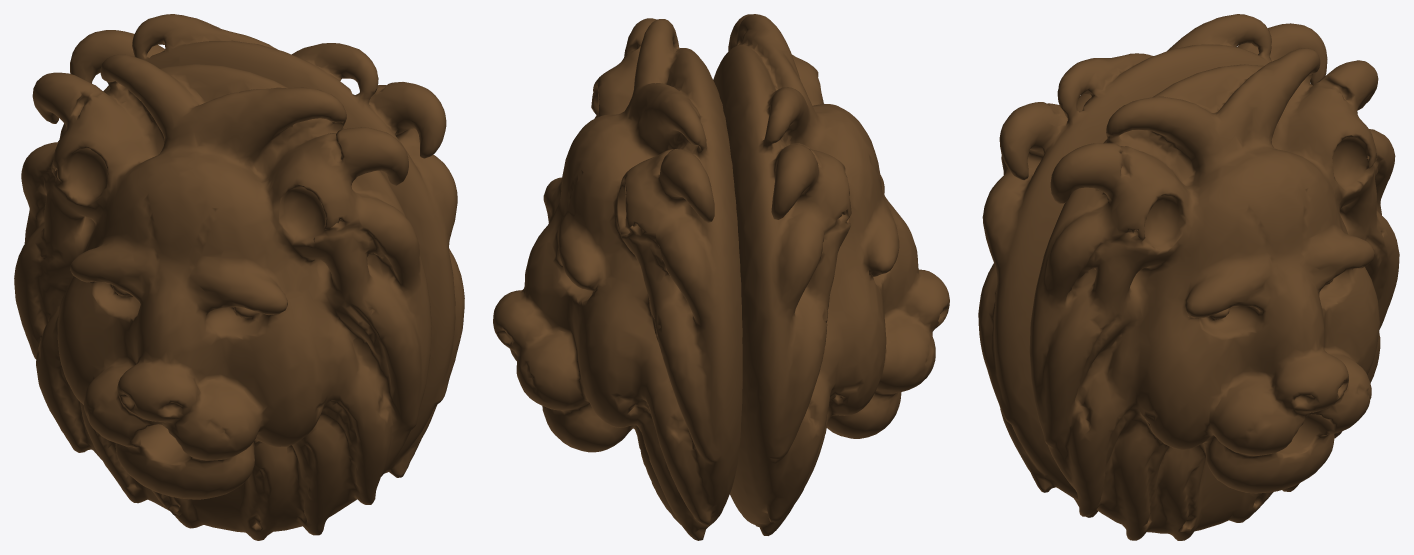
Rendered from lions.obj.
3 views of the same model, side by side, from view 1: azimuth 30°, elevation 25°; view 2: azimuth 150°, elevation 25°; view 3: azimuth 270°, elevation 25° (orthographic). The views are drawn at different scales.
Visible parts, largest first — view 1: paired_lion_masks; view 2: paired_lion_masks; view 3: paired_lion_masks.
Boxes of the visible parts, x1=… form: paired_lion_masks: x1=14, y1=14, x2=464, y2=540; paired_lion_masks: x1=493, y1=14, x2=949, y2=540; paired_lion_masks: x1=978, y1=14, x2=1399, y2=540.
Bounding box in the file's own units: 14.47 × 17.84 × 14.73.
